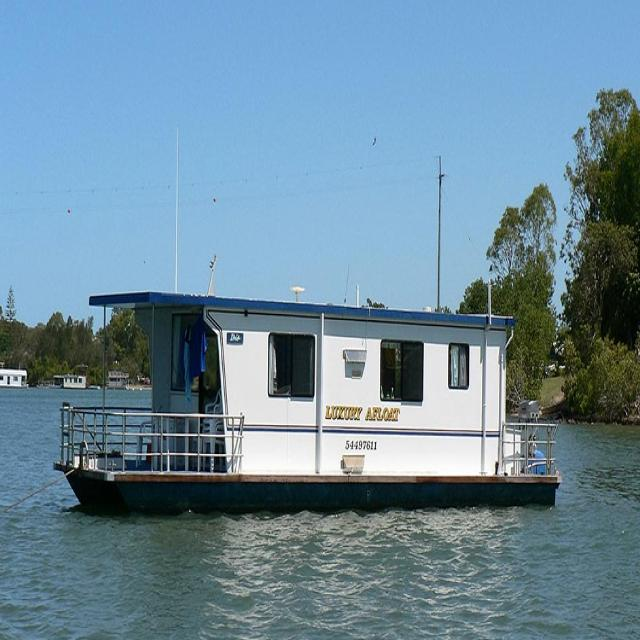houseboat: (51, 254, 577, 515)
